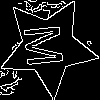M: (23, 21, 73, 68)
